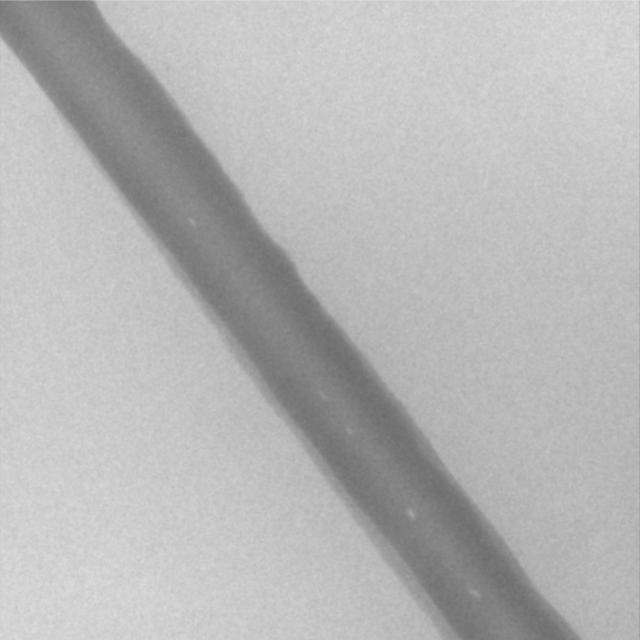air hole: (404, 506, 416, 522), (345, 425, 355, 436), (319, 392, 329, 402)
